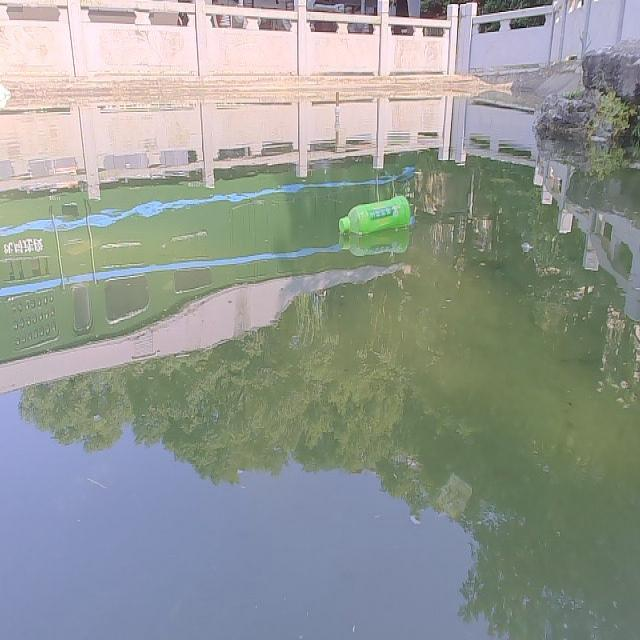Bottle: (334, 192, 415, 237)
